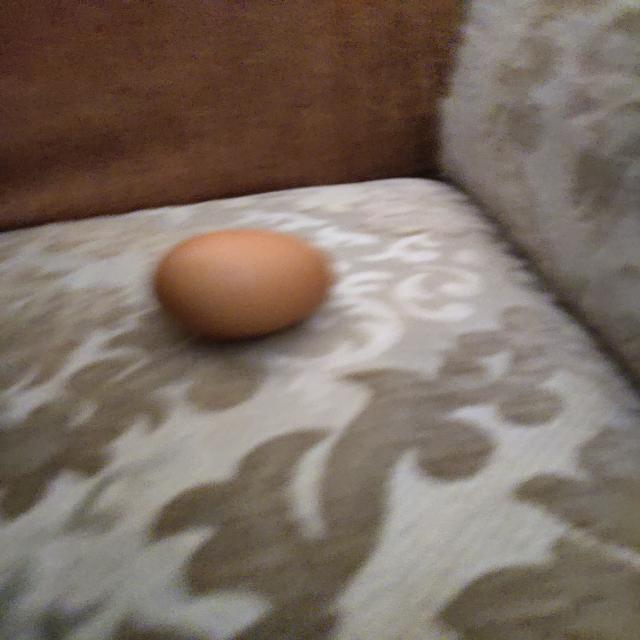Egg: (156, 227, 332, 339)
